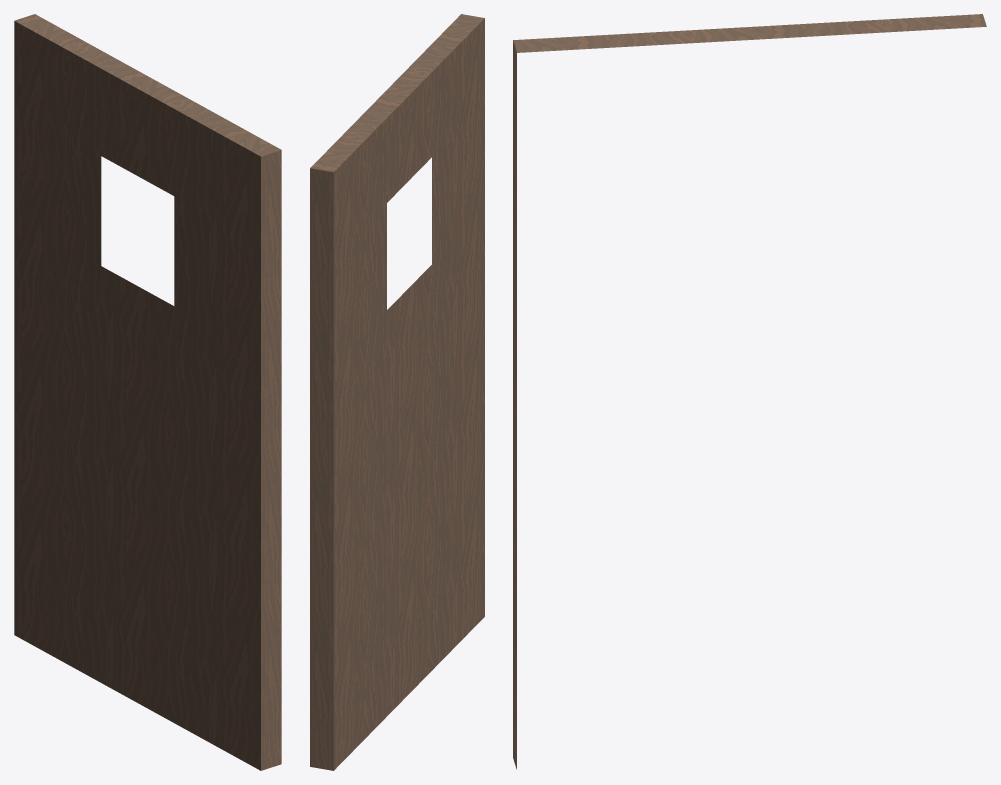
Rendered from kd_stage_135ded_4_89_exterior.glb.
3 renders of one model, left to right at view 1: azimuth 30°, elevation 25°; view 2: azimuth 150°, elevation 25°; view 3: azimuth 270°, elevation 25°, orthographic. The views are drawn at different scales.
Parts seen in each view (by area): view 1: kd_stage_135ded_4_89_exterior; view 2: kd_stage_135ded_4_89_exterior; view 3: kd_stage_135ded_4_89_exterior.
Boxes of the visible parts, x1,y1,x2,y2 form: kd_stage_135ded_4_89_exterior: (14, 14, 281, 770); kd_stage_135ded_4_89_exterior: (310, 14, 484, 770); kd_stage_135ded_4_89_exterior: (513, 14, 986, 769).
Bounding box in the file's own units: 0.1833 × 1.57 × 0.9414.
1 material, 1 textured.
